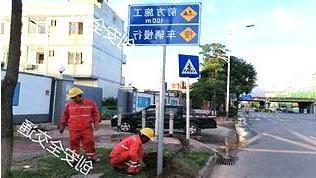sign: (127, 3, 199, 45)
